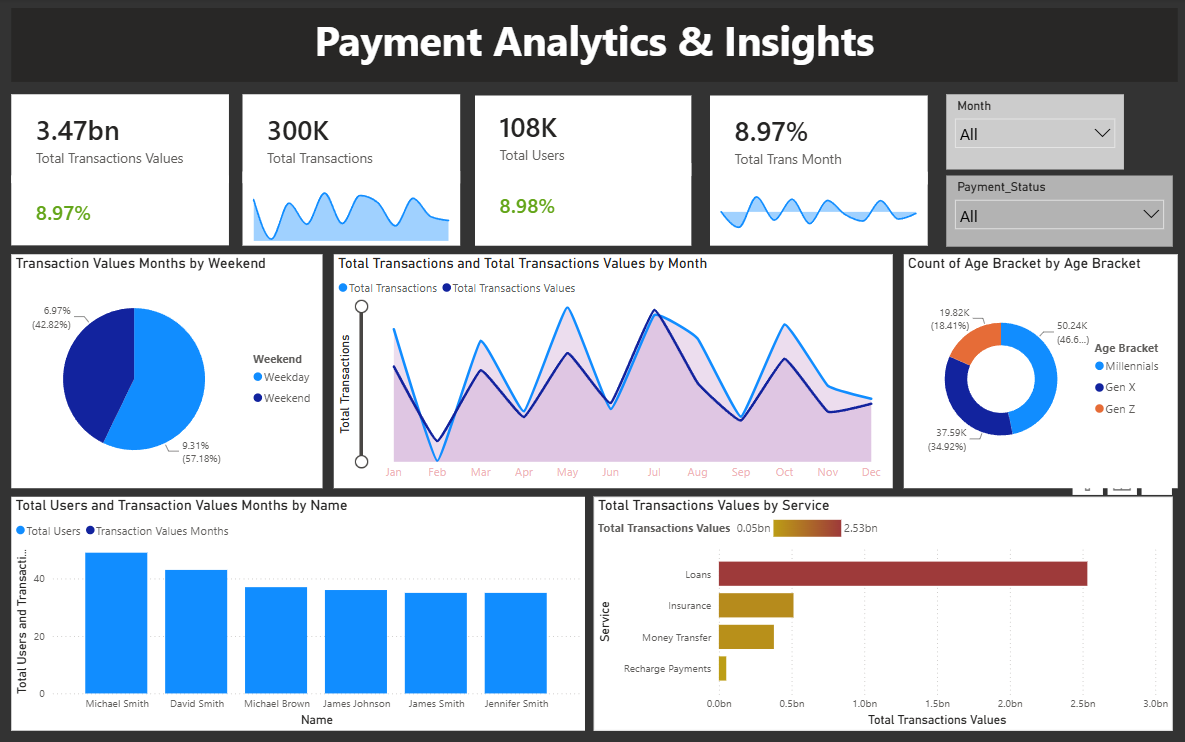

This screenshot's page, from the dashboard's own definition file:
{"tool":"powerbi","page":{"name":"Main Page","canvas":[1400,880],"ordinal":0},"visuals":[{"type":"cardVisual","fields":{"Data":["Measures (2).Total Transactions Values"]},"box":[13.3,113.5,256.6,104.7],"z":0},{"type":"cardVisual","fields":{"Data":["Measures (2).Total Transactions"]},"box":[286.1,113.5,256.6,104.7],"z":1000},{"type":"cardVisual","fields":{"Data":["Measures (2).Total Users"]},"box":[560.3,115,255.1,94.4],"z":2000},{"type":"cardVisual","fields":{"Data":["Measures (2).Total Trans Month"]},"box":[837.5,115,256.6,104.7],"z":3000},{"type":"slicer","fields":{"Values":["Date_Table.Month"]},"box":[1116.2,113.5,209.4,88.5],"z":4000},{"type":"areaChart","fields":{"Category":["Date_Table.Month"],"Y":["Measures (2).Total Transactions"],"Y2":["Measures (2).Total Transactions Values"]},"box":[393.7,302.3,659.1,275.7],"z":5000},{"type":"clusteredBarChart","fields":{"Category":["All_Transactions.Service"],"Y":["Measures (2).Total Transactions Values"]},"box":[700.4,588.3,682.7,275.7],"z":6000},{"type":"donutChart","fields":{"Y":["CountNonNull(All_Users.Age Bracket)"],"Category":["All_Users.Age Bracket"]},"box":[1066.1,302.3,322.9,275.7],"z":7000},{"type":"areaChart","fields":{"Category":["Date_Table.Month"],"Y":["Measures (2).Total Transactions"]},"box":[286.1,205,256.6,87],"z":8000},{"type":"cardVisual","fields":{"Data":["Measures (2).Total Trans Month"]},"box":[13.3,209.4,256.6,82.6],"z":9000},{"type":"cardVisual","fields":{"Data":["Measures (2).Transaction Values Months"]},"box":[560.3,194.6,255.1,97.3],"z":10000},{"type":"areaChart","fields":{"Category":["Date_Table.Month"],"Y":["Measures (2).Total Trans Month"]},"box":[837.5,205,256.6,87],"z":11000},{"type":"columnChart","fields":{"Category":["All_Users.Name"],"Y":["Measures (2).Total Users","Measures (2).Transaction Values Months"]},"box":[13.3,588.3,676.8,275.7],"z":12000},{"type":"pieChart","fields":{"Category":["Date_Table.Weekend"],"Y":["Measures (2).Transaction Values Months"]},"box":[13.3,302.3,367.2,275.7],"z":13000},{"type":"slicer","fields":{"Values":["All_Transactions.Payment_Status"]},"box":[1116.2,209.4,266.9,84],"z":14000},{"type":"textbox","box":[13.3,11.8,1375.7,87],"z":15000}]}

Visuals, with their boxes in screenshot pixels (x1, y1, x2, y2), scaled from the page's 1400x880 canvas onto the 1185x742 screenshot:
cardVisual - Measures (2).Total Transactions Values: bbox=(11, 96, 228, 184)
cardVisual - Measures (2).Total Transactions: bbox=(242, 96, 459, 184)
cardVisual - Measures (2).Total Users: bbox=(474, 97, 690, 177)
cardVisual - Measures (2).Total Trans Month: bbox=(709, 97, 926, 185)
slicer - Date_Table.Month: bbox=(945, 96, 1122, 170)
areaChart - Date_Table.Month x Measures (2).Total Transactions: bbox=(333, 255, 891, 487)
clusteredBarChart - All_Transactions.Service x Measures (2).Total Transactions Values: bbox=(593, 496, 1171, 729)
donutChart - CountNonNull(All_Users.Age Bracket) x All_Users.Age Bracket: bbox=(902, 255, 1176, 487)
areaChart - Date_Table.Month x Measures (2).Total Transactions: bbox=(242, 173, 459, 246)
cardVisual - Measures (2).Total Trans Month: bbox=(11, 177, 228, 246)
cardVisual - Measures (2).Transaction Values Months: bbox=(474, 164, 690, 246)
areaChart - Date_Table.Month x Measures (2).Total Trans Month: bbox=(709, 173, 926, 246)
columnChart - All_Users.Name x Measures (2).Total Users: bbox=(11, 496, 584, 729)
pieChart - Date_Table.Weekend x Measures (2).Transaction Values Months: bbox=(11, 255, 322, 487)
slicer - All_Transactions.Payment_Status: bbox=(945, 177, 1171, 247)
textbox: bbox=(11, 10, 1176, 83)
